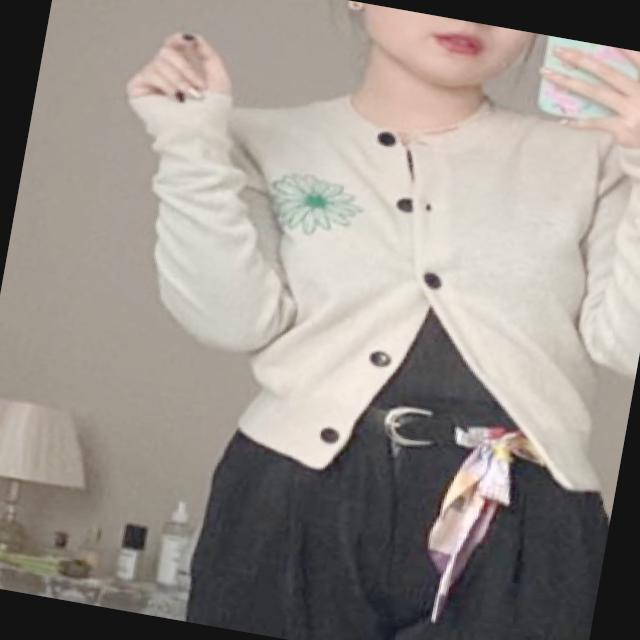cardigan: (71, 34, 640, 524)
slacks: (177, 373, 623, 640)
